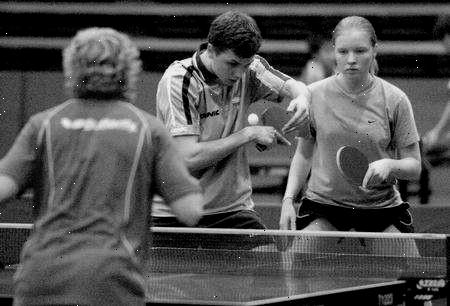ball: (243, 110, 259, 126)
